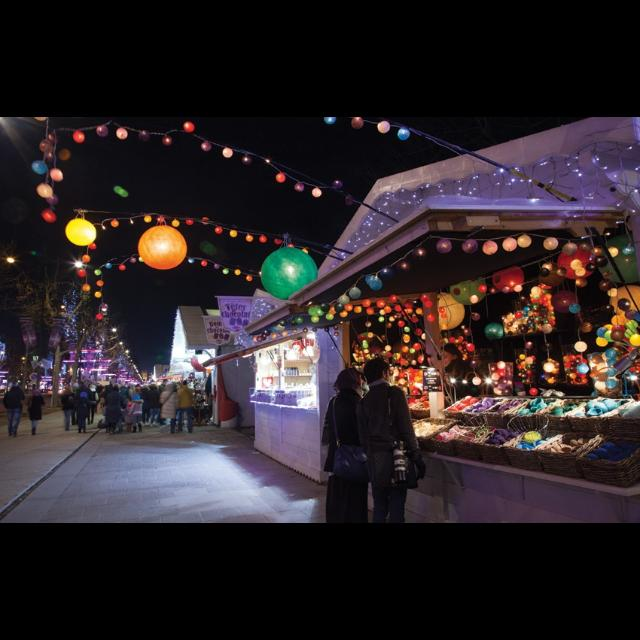head: (364, 359, 392, 385), (338, 368, 362, 390), (440, 344, 460, 368), (166, 384, 178, 394), (150, 384, 156, 392), (66, 387, 72, 395), (34, 391, 42, 397), (12, 382, 20, 388), (163, 379, 169, 386), (136, 388, 142, 394), (121, 382, 127, 388), (184, 382, 188, 388), (144, 388, 148, 394), (134, 396, 140, 400), (80, 400, 86, 404), (80, 382, 84, 388), (90, 386, 96, 390), (105, 405, 109, 409)
person: (436, 342, 484, 488), (2, 379, 26, 438), (158, 384, 178, 436), (178, 381, 196, 435), (27, 389, 47, 436), (74, 380, 92, 426), (60, 386, 76, 434), (147, 382, 163, 428), (74, 392, 90, 434), (157, 379, 171, 426), (128, 394, 144, 434), (84, 384, 100, 424), (132, 387, 146, 429), (140, 388, 152, 428), (118, 381, 130, 417), (102, 403, 112, 433)
